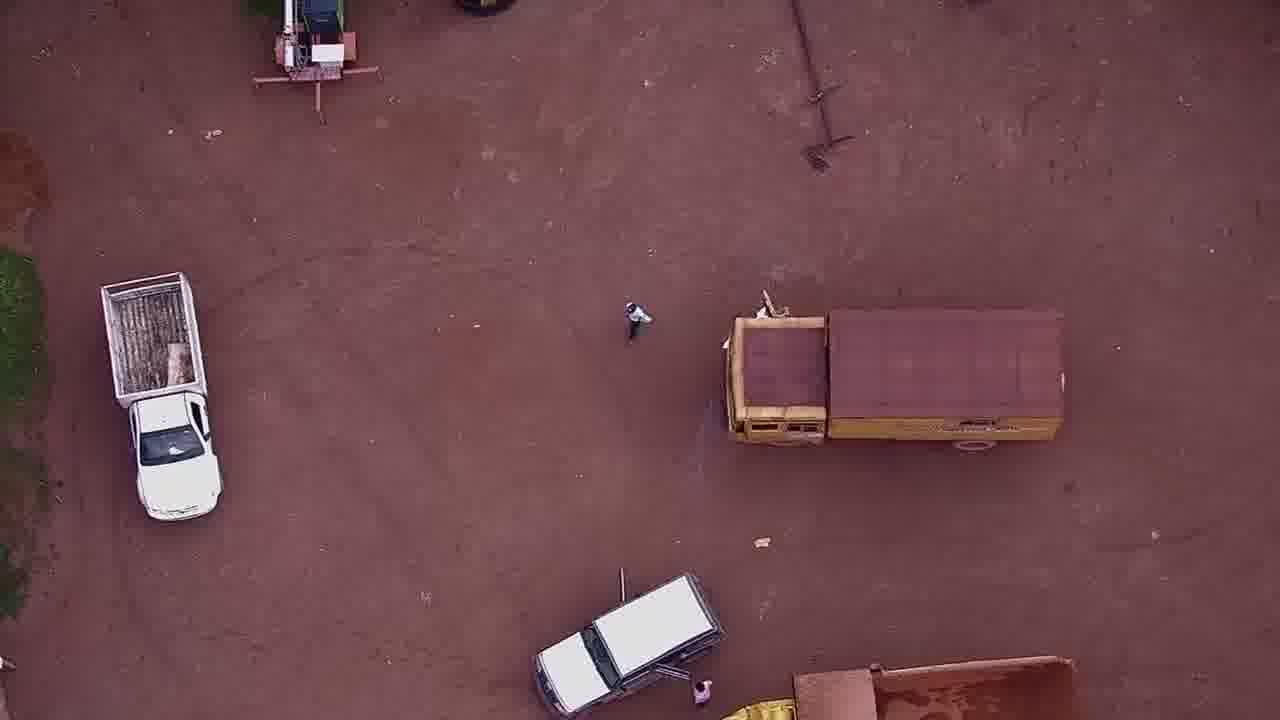HMV: (717, 290, 1070, 454)
LMV: (523, 558, 731, 718), (99, 267, 225, 520)
Person: (619, 294, 653, 352), (686, 678, 718, 707)
